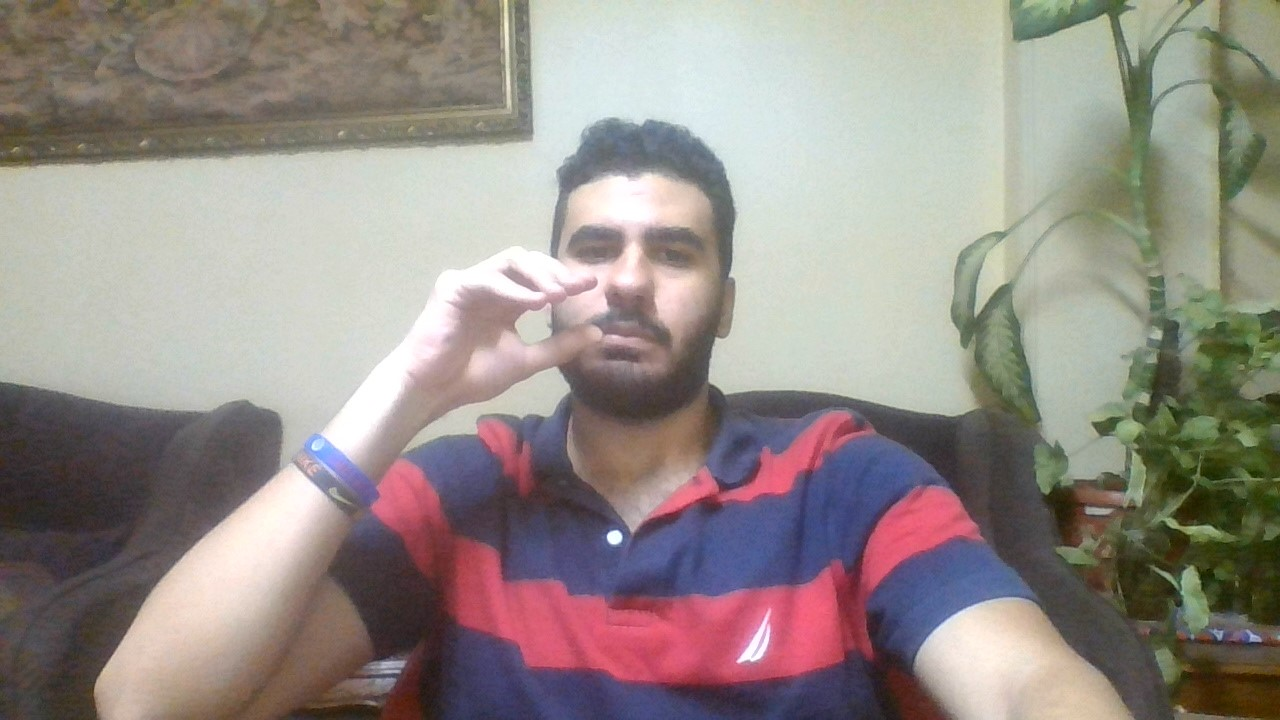drink: (406, 243, 606, 385)
